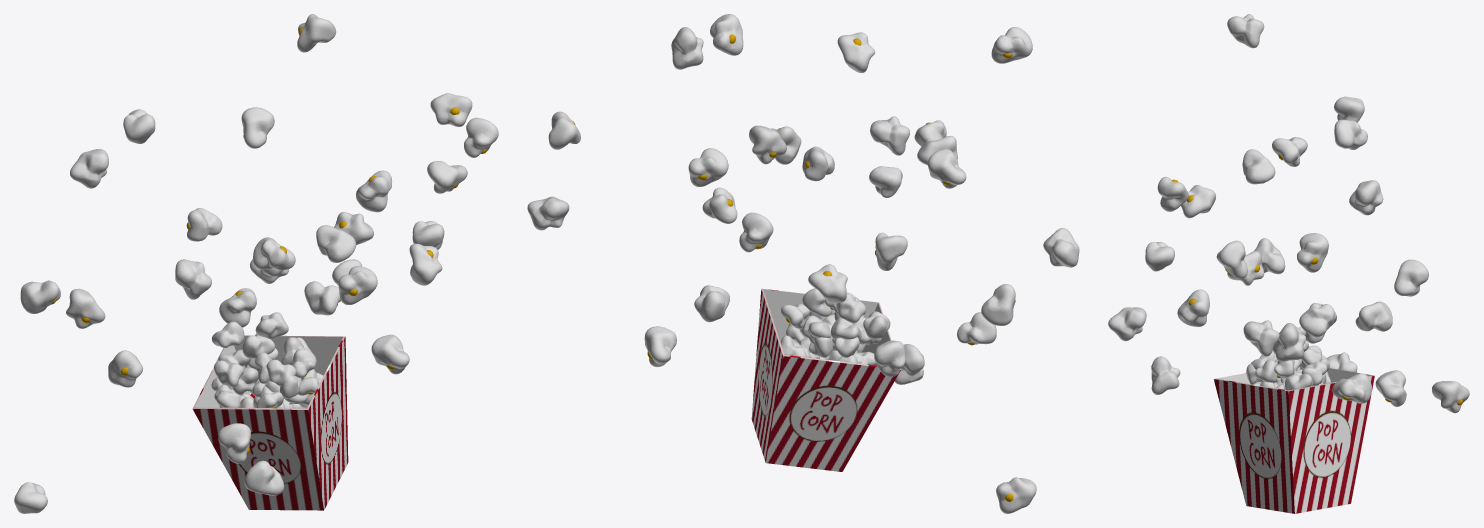
The picture shows the model from 3 angles, left to right: view 1: azimuth 30°, elevation 25°; view 2: azimuth 150°, elevation 25°; view 3: azimuth 270°, elevation 25°; orthographic projection. The views are drawn at different scales.
Parts seen in each view (by area): view 1: Popcorn_1_2_2, Cube; view 2: Popcorn_1_2_2, Cube; view 3: Popcorn_1_2_2, Cube.
Part boxes in pixels (box(x1,y1,x2,y2)): Popcorn_1_2_2: box(14, 14, 498, 513); Cube: box(192, 335, 348, 510); Popcorn_1_2_2: box(527, 14, 1079, 513); Cube: box(751, 288, 900, 471); Popcorn_1_2_2: box(1108, 14, 1469, 413); Cube: box(1213, 364, 1374, 513).
Bounding box in the file's own units: 3572 × 3121 × 2451.
3 materials, 1 textured.
